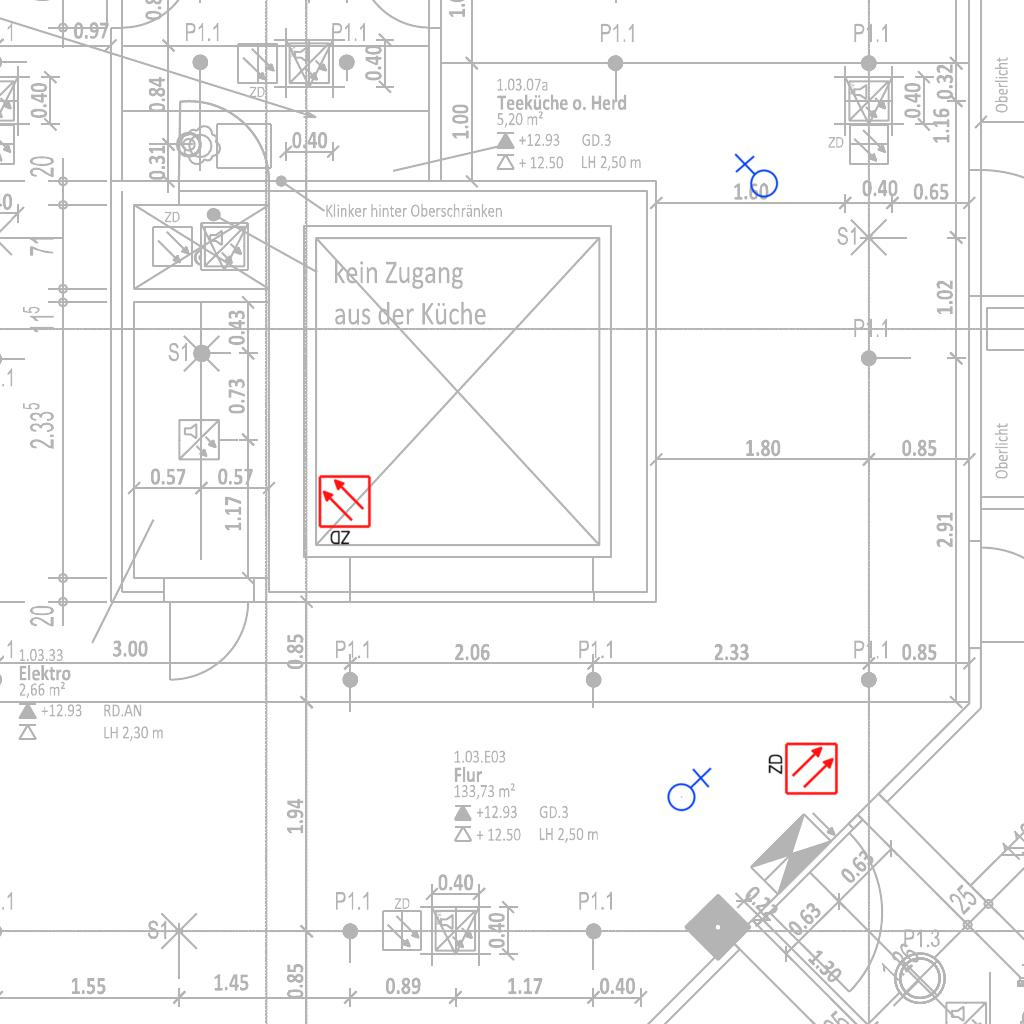Elektroanschluss_allgemein_230V_Geraeteanschlussdose_230V: (663, 765, 712, 812), (732, 153, 779, 202)
ZD_Melder_in_Zwischendecke_mit_Revisionsoeffnung_mind_40_x_40_cm: (765, 741, 839, 798), (317, 474, 374, 548)
